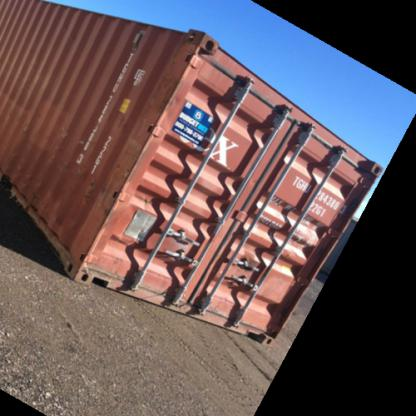Damage: (111, 133, 153, 188), (0, 169, 38, 214), (149, 69, 183, 114), (82, 170, 112, 212), (170, 46, 200, 70)
